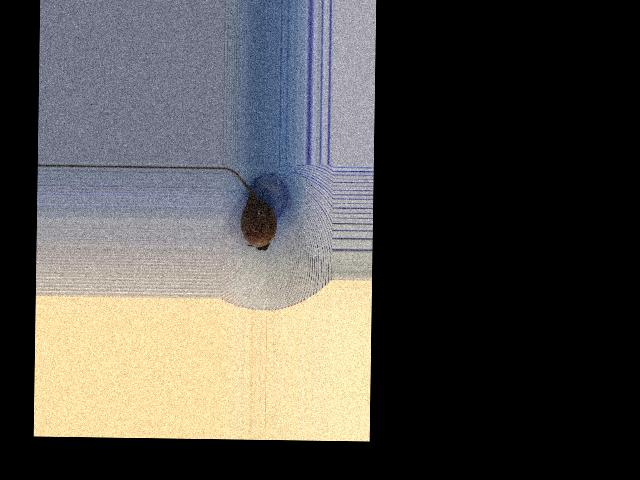beet: (220, 167, 277, 251)
